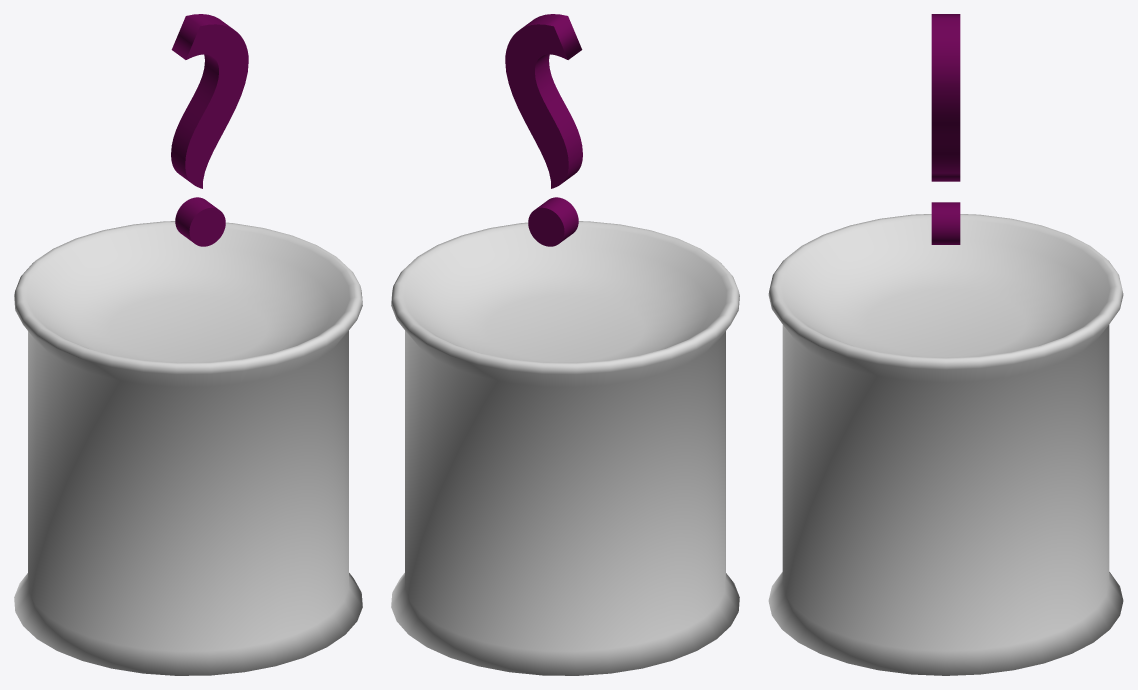
The model's file is mbox.fbx.
3 views of the same model, side by side, from view 1: azimuth 30°, elevation 25°; view 2: azimuth 150°, elevation 25°; view 3: azimuth 270°, elevation 25° (orthographic).
Parts seen in each view (by area): view 1: Cylinder, Text; view 2: Cylinder, Text; view 3: Cylinder, Text.
Part boxes in pixels (x1=…): Cylinder: x1=14, y1=221, x2=362, y2=675; Text: x1=171, y1=14, x2=248, y2=246; Cylinder: x1=391, y1=221, x2=739, y2=675; Text: x1=505, y1=14, x2=582, y2=246; Cylinder: x1=768, y1=214, x2=1123, y2=675; Text: x1=931, y1=14, x2=960, y2=244.
Size of the model in its own units: 200 by 366 by 200.
